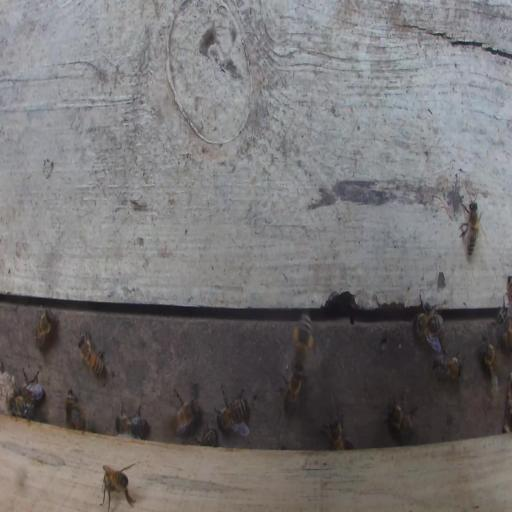nonpollenbee: (101, 468, 134, 511), (77, 334, 107, 378), (172, 398, 198, 438), (388, 402, 414, 442), (217, 399, 247, 431), (283, 369, 302, 417), (115, 414, 150, 440), (433, 352, 461, 381), (495, 306, 512, 352), (481, 341, 501, 377), (466, 202, 479, 257), (35, 311, 52, 352), (414, 312, 444, 334), (9, 396, 35, 419), (19, 383, 45, 403), (328, 419, 344, 450), (65, 389, 76, 427), (198, 428, 215, 447), (507, 275, 512, 304)
pollenbee: (294, 314, 315, 371)
